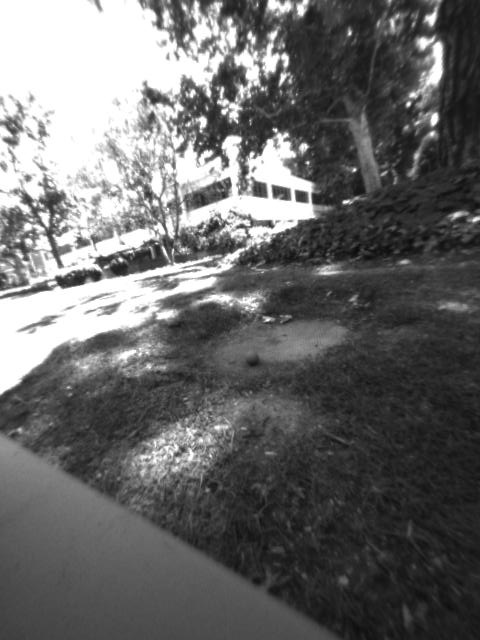dogtoy: (238, 343, 269, 371)
